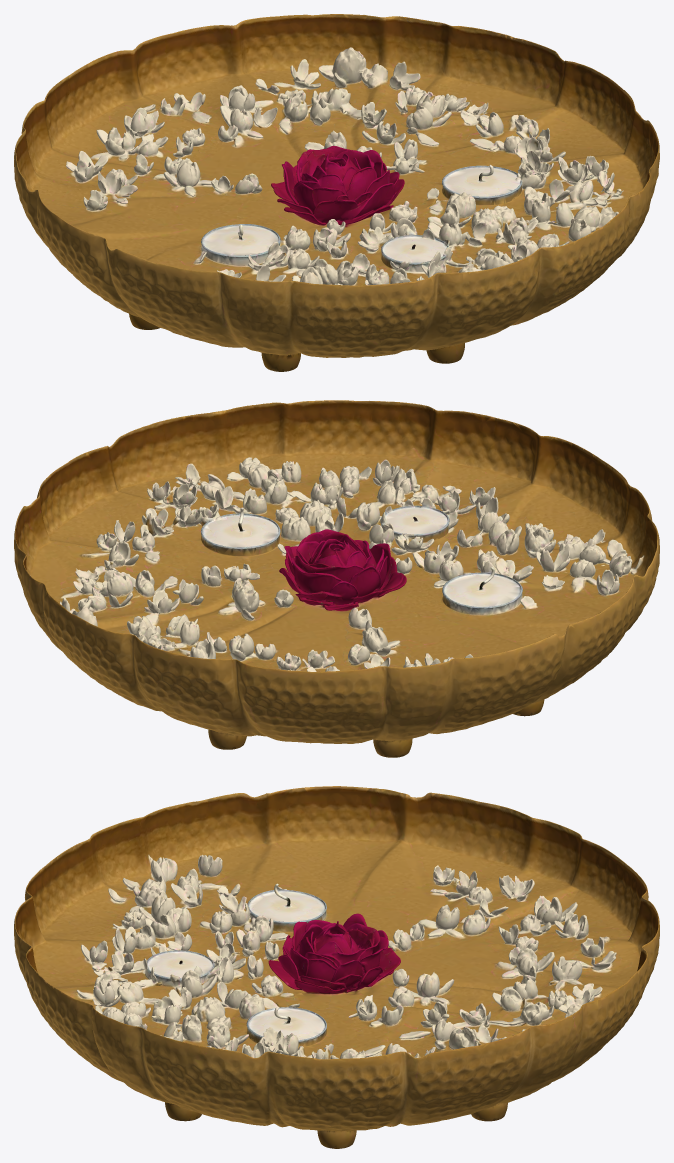
The model's file is behoma-golden-lotus-urli-12-inch-floating-flower-bowl-for-di.glb.
3 renders of one model, top to bottom at view 1: azimuth 30°, elevation 25°; view 2: azimuth 150°, elevation 25°; view 3: azimuth 270°, elevation 25°, orthographic.
Size of the model in its own units: 1.9 by 0.4185 by 1.9.
Materials: 1 (1 with a texture image).
